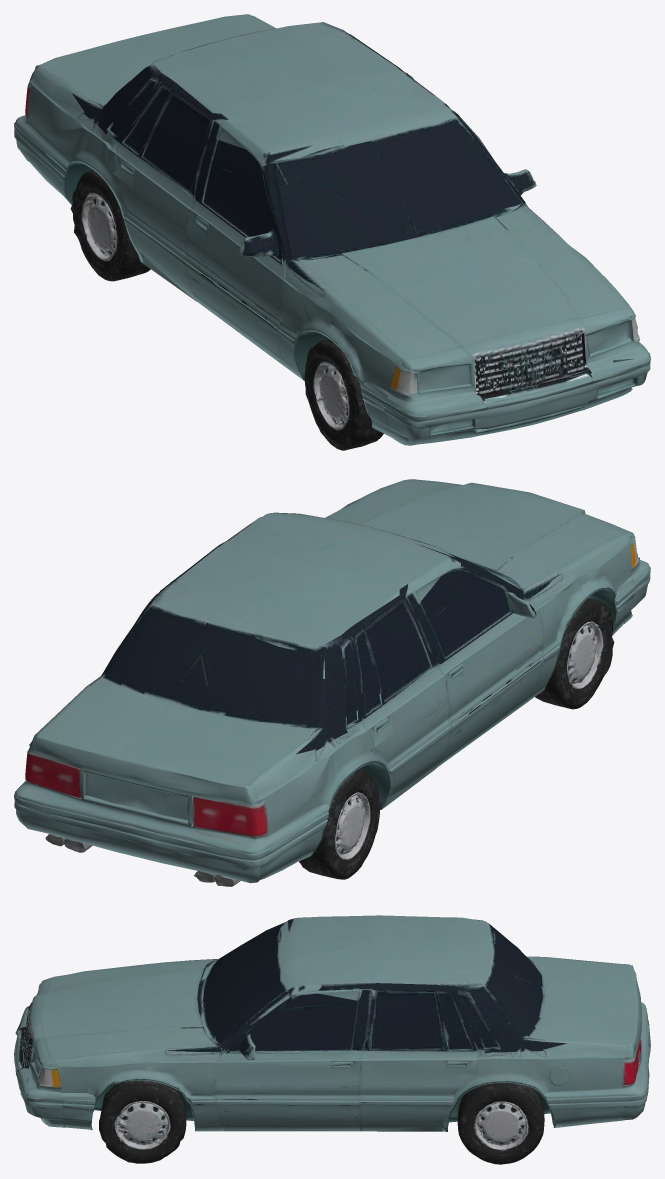
The model's file is sedan-v9.glb.
3 views of the same model, one above another, from view 1: azimuth 30°, elevation 25°; view 2: azimuth 150°, elevation 25°; view 3: azimuth 270°, elevation 25° (orthographic). The views are drawn at different scales.
Parts seen in each view (by area): view 1: body, wheel_fl_mesh, wheel_rl_mesh; view 2: body, wheel_rl_mesh, wheel_fl_mesh; view 3: body, wheel_fr_mesh, wheel_rr_mesh.
Boxes of the visible parts, <box> form: body: <box>14,14,650,445</box>; wheel_fl_mesh: <box>304,339,383,450</box>; wheel_rl_mesh: <box>70,170,150,281</box>; body: <box>14,479,650,886</box>; wheel_rl_mesh: <box>299,769,379,879</box>; wheel_fl_mesh: <box>535,598,614,709</box>; body: <box>14,915,650,1131</box>; wheel_fr_mesh: <box>99,1080,186,1163</box>; wheel_rr_mesh: <box>457,1083,544,1164</box>.
Bounding box in the file's own units: 0.3926 × 0.2847 × 0.9531.
1 material, 1 textured.
